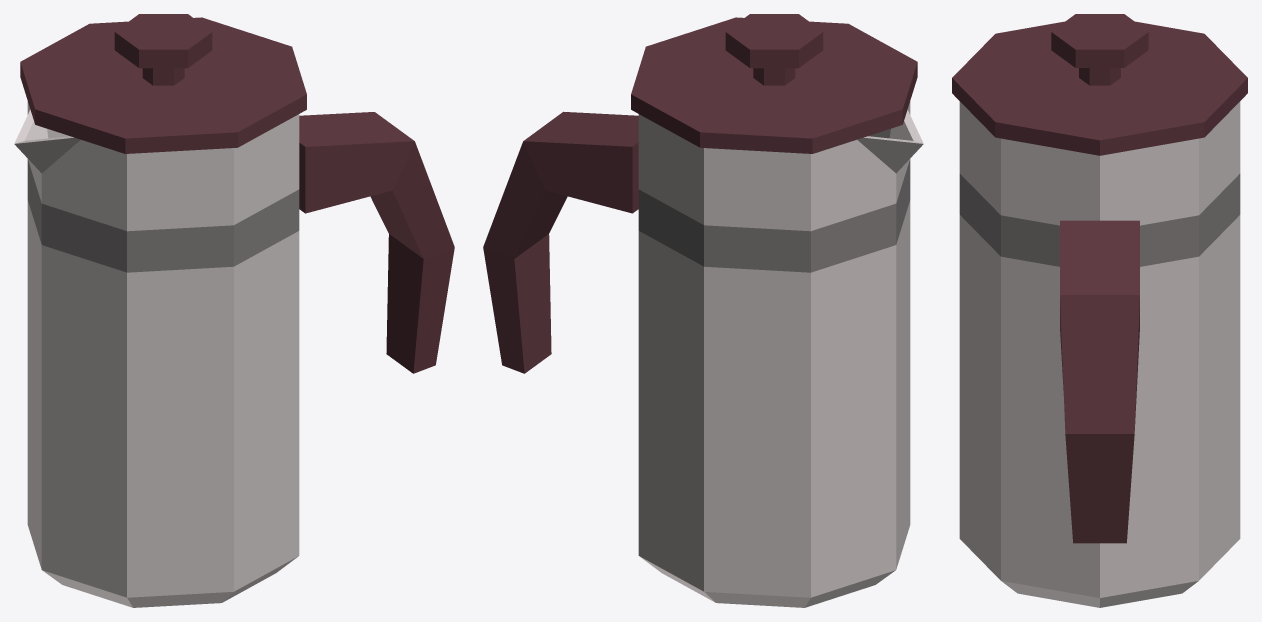
Rendered from french-press.fbx.
3 renders of one model, left to right at view 1: azimuth 30°, elevation 25°; view 2: azimuth 150°, elevation 25°; view 3: azimuth 270°, elevation 25°, orthographic.
Parts seen in each view (by area): view 1: french-press; view 2: french-press; view 3: french-press.
Part boxes in pixels (box(x1,y1,x2,y2)): french-press: box(14, 14, 454, 607); french-press: box(483, 14, 923, 607); french-press: box(952, 14, 1247, 607).
Bounding box in the file's own units: 0.1391 × 0.1659 × 0.0844.
